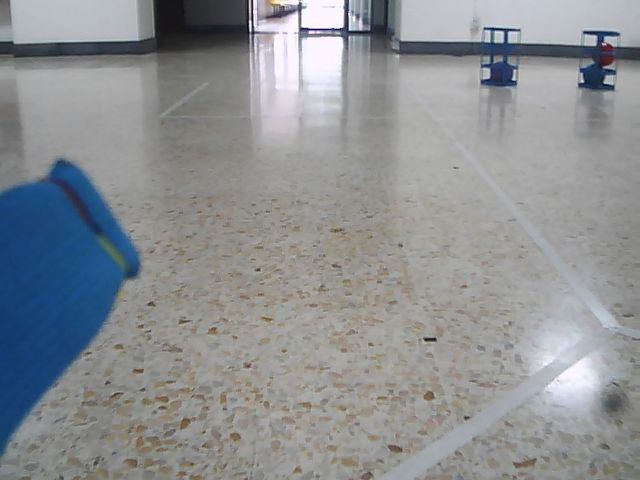Blue ball: (491, 61, 514, 83)
Cyro: (576, 26, 621, 92), (478, 26, 521, 88)
Purple ball: (583, 64, 607, 88)
Red ball: (592, 41, 616, 66)
